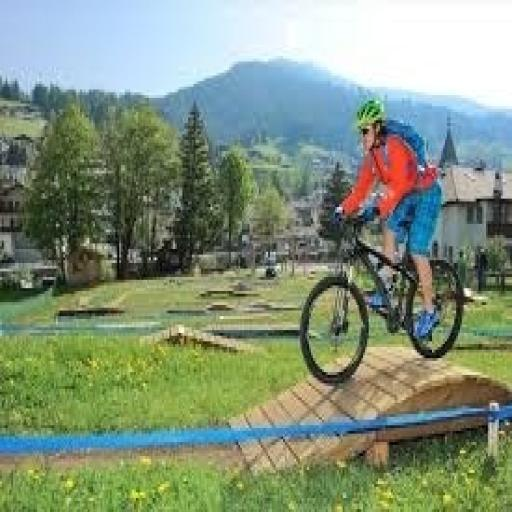cycling: (331, 95, 445, 341)
